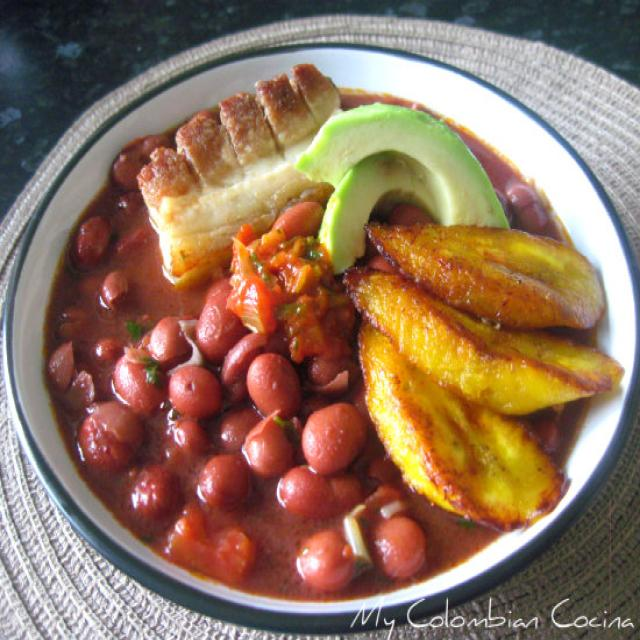aguacate: (297, 98, 521, 247)
carne de cerdo: (130, 61, 355, 266)
frijoles: (32, 205, 427, 612)
platano: (352, 212, 622, 540)
